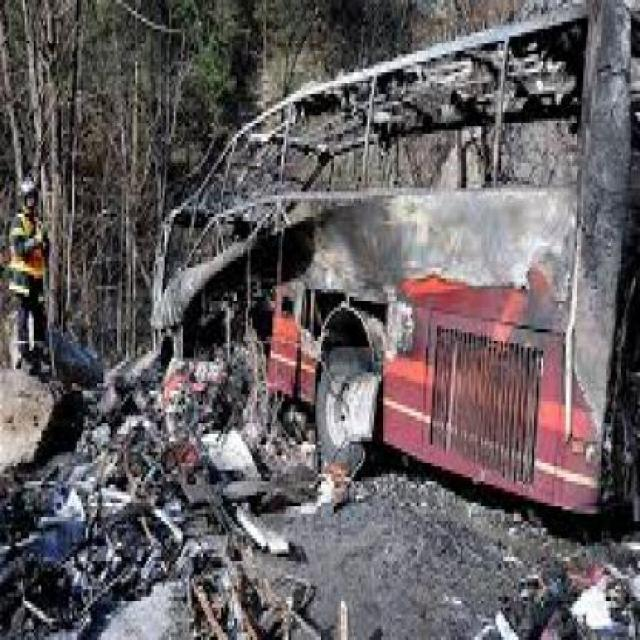accident: (134, 0, 640, 617)
